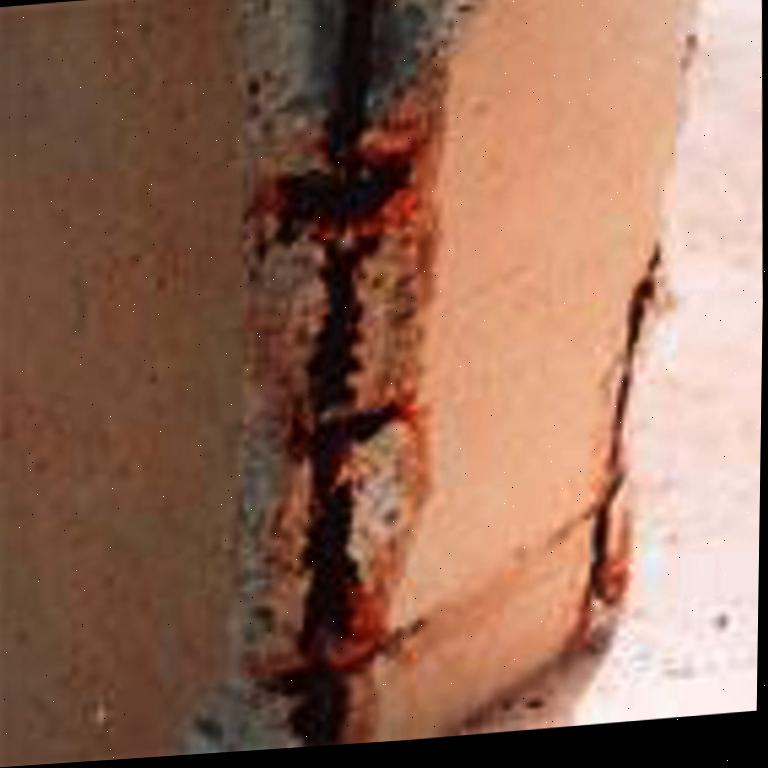exposed_rebar: (273, 0, 414, 747)
spalling: (184, 0, 457, 755)
